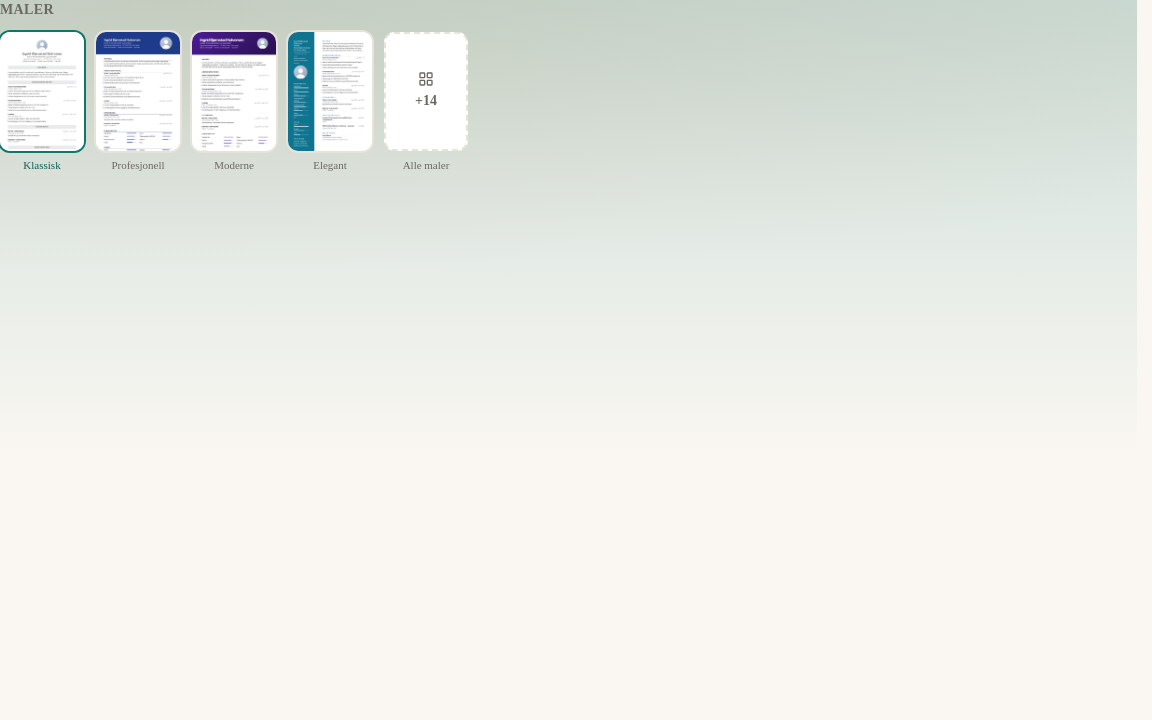
TemplateStrip › closes the dialog after choosing from it
The image size is (1152, 720).
Click the button "+14" at (426, 91), box 384,32 -> 468,151
(page scrolled)
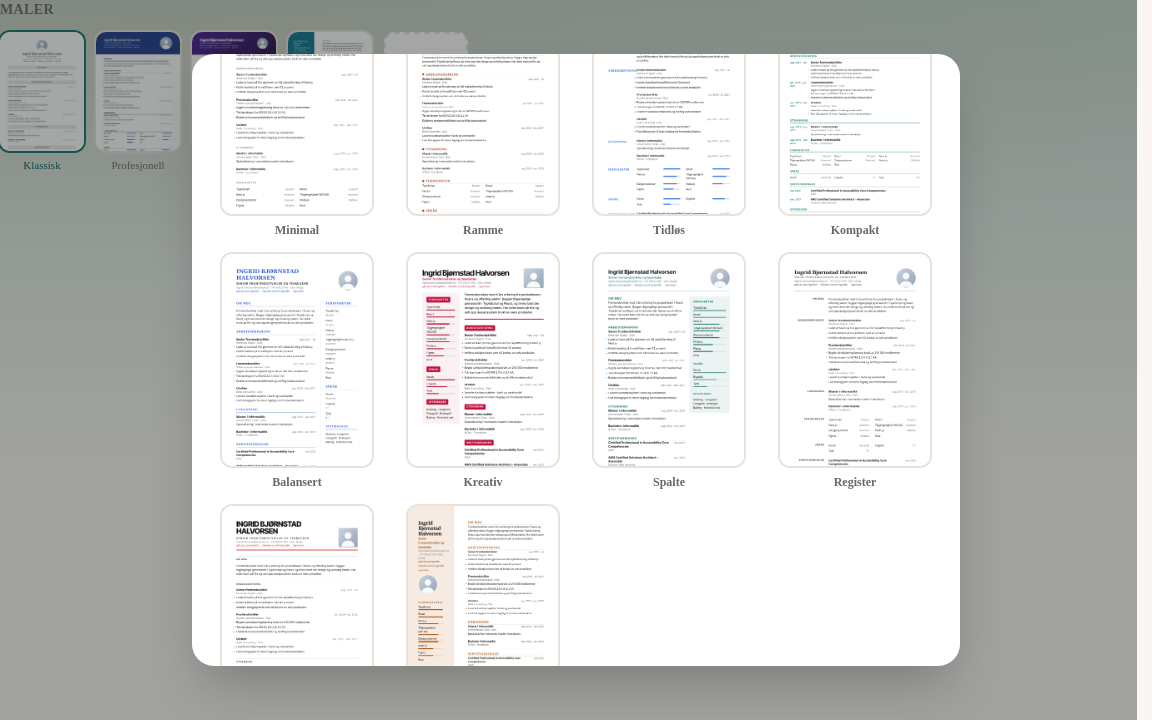
Click the button named "Kreativ" at (483, 360), box 408,254 -> 558,466
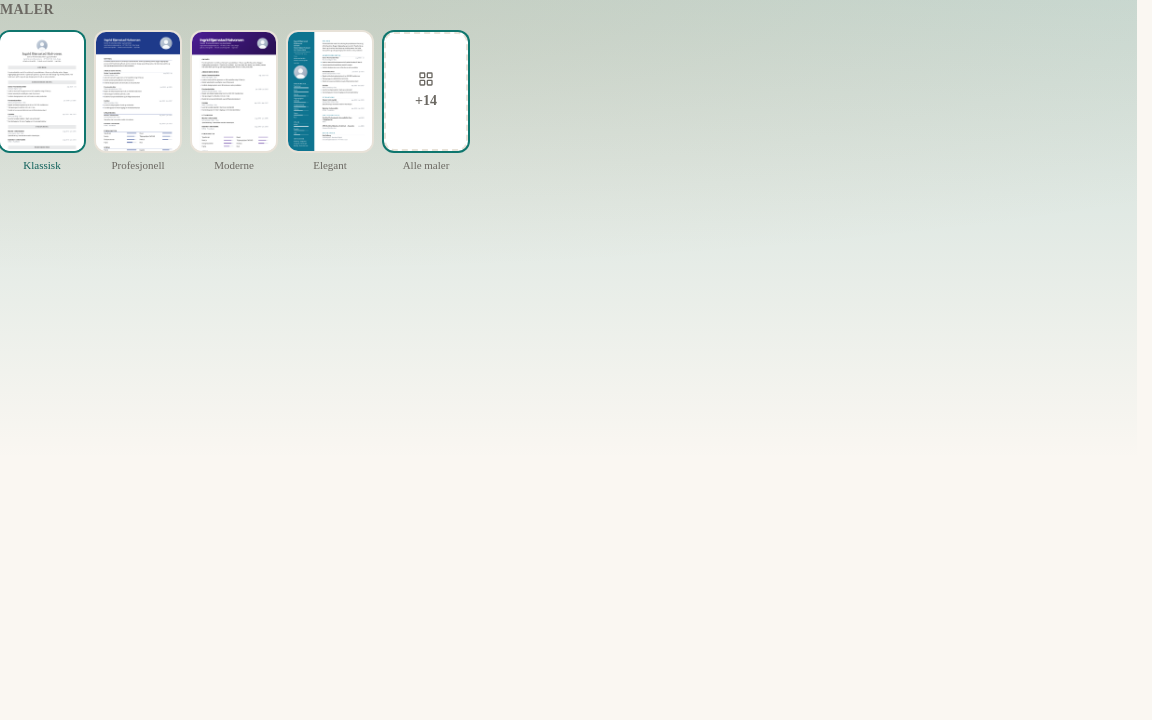
Expected: the dialog is gone
